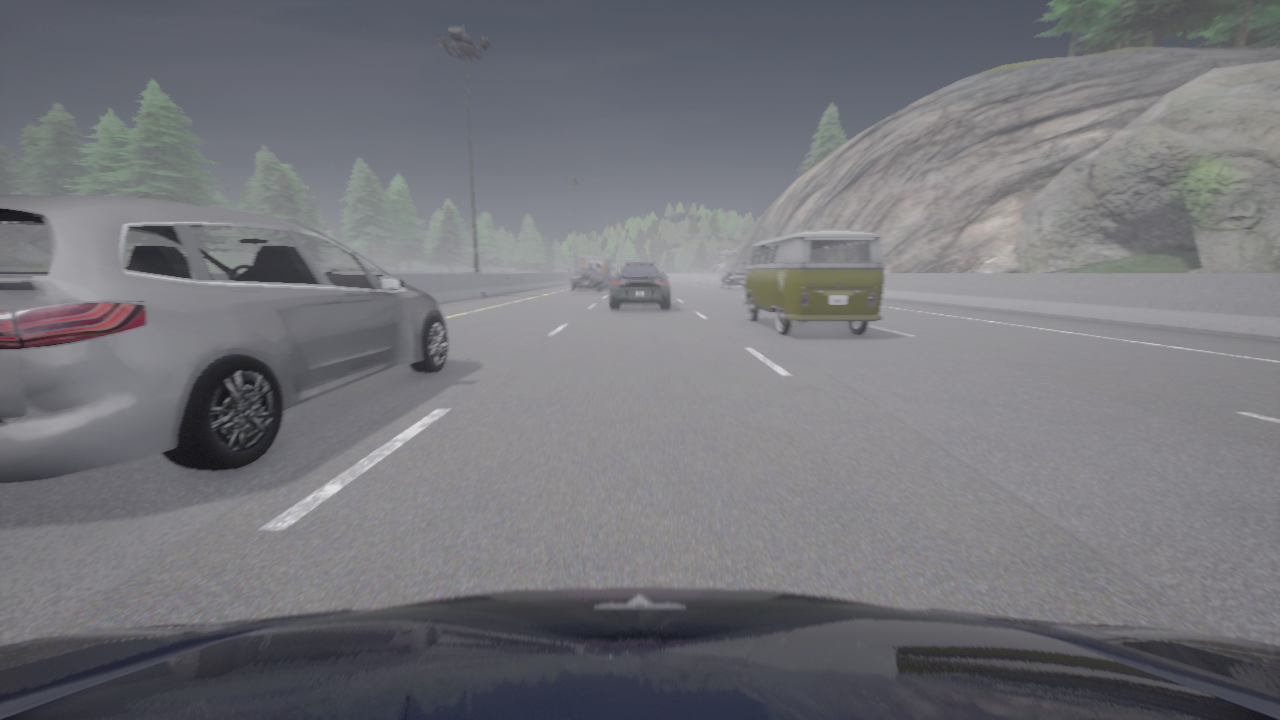cyclist: (0, 588, 1279, 719), (742, 231, 885, 335), (610, 263, 669, 309), (579, 256, 613, 287), (571, 268, 604, 290), (720, 268, 746, 289)
